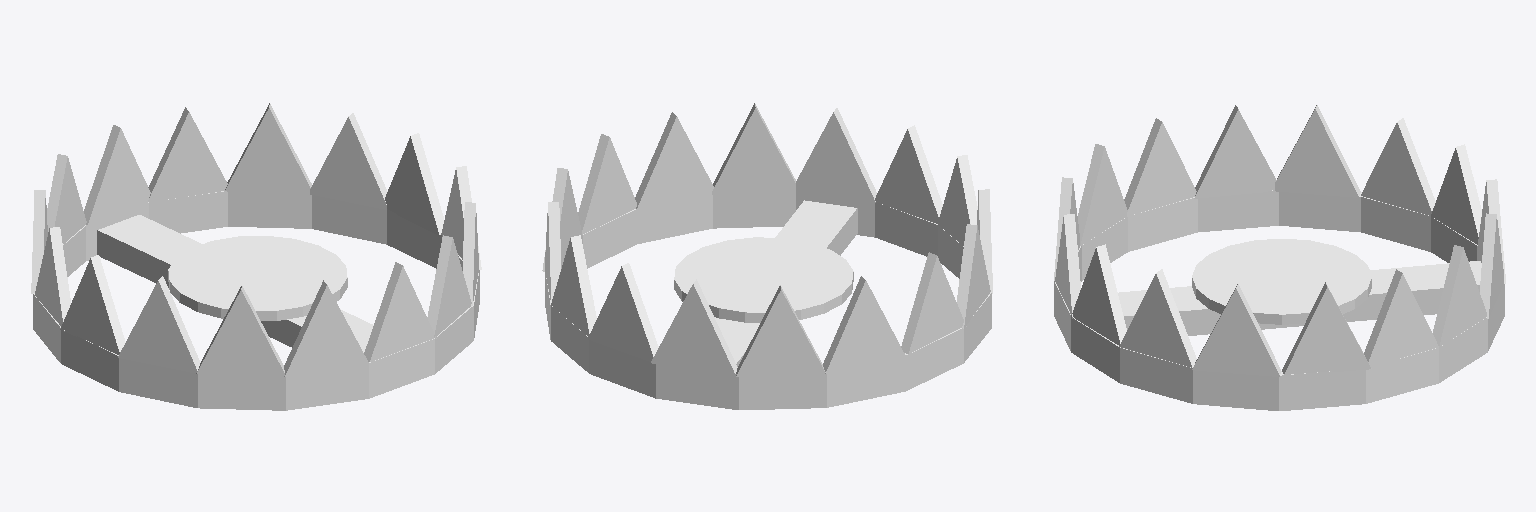
File: Bear trap.obj
The picture shows the model from 3 angles: view 1: azimuth 30°, elevation 25°; view 2: azimuth 150°, elevation 25°; view 3: azimuth 270°, elevation 25°; orthographic projection.
Visible parts, largest first — view 1: Bear trap; view 2: Bear trap; view 3: Bear trap.
Part boxes in pixels (left/top/right/bottom): Bear trap: left=31, top=103, right=481, bottom=410; Bear trap: left=542, top=103, right=992, bottom=409; Bear trap: left=1054, top=105, right=1505, bottom=410.
Size of the model in its own units: 0.4012 by 0.1179 by 0.4015.